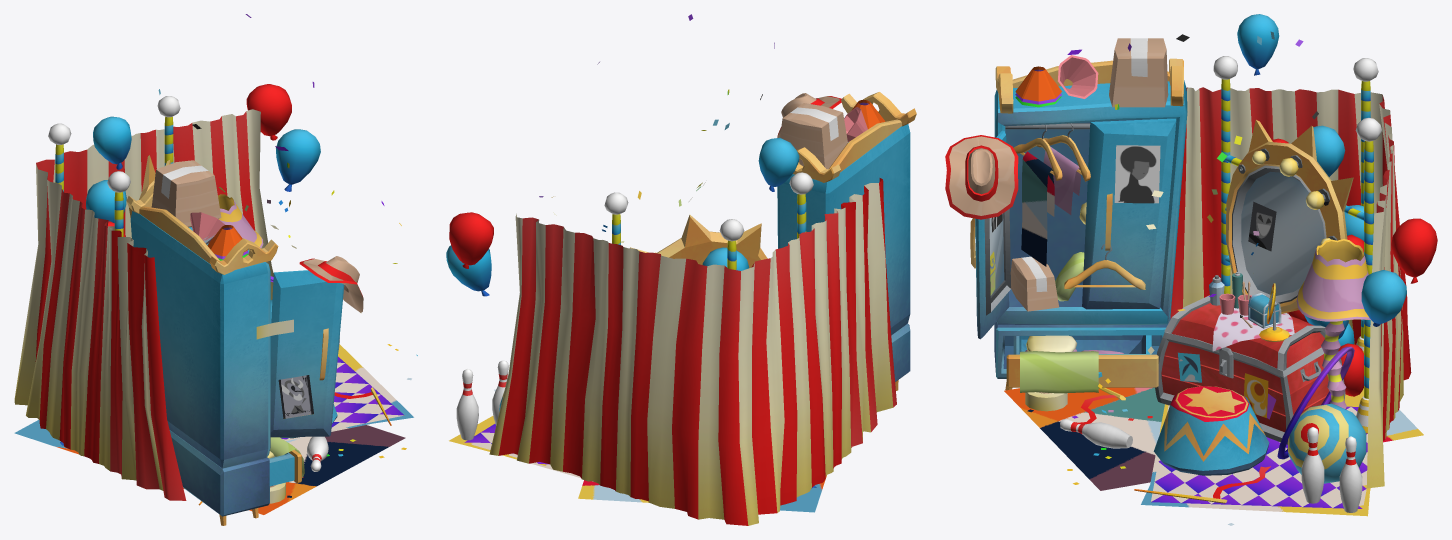
3 views of the same model, side by side, from view 1: azimuth 30°, elevation 25°; view 2: azimuth 150°, elevation 25°; view 3: azimuth 270°, elevation 25° (orthographic). The views are drawn at different scales.
Visible parts, largest first — view 1: SM_CircusRoom; view 2: SM_CircusRoom; view 3: SM_CircusRoom.
Boxes of the visible parts, left/top/right/bottom form: SM_CircusRoom: left=14, top=14, right=417, bottom=525; SM_CircusRoom: left=446, top=14, right=916, bottom=525; SM_CircusRoom: left=945, top=14, right=1437, bottom=525.
Bounding box in the file's own units: 0.3781 × 0.3885 × 0.4114.
1 material, 1 textured.
